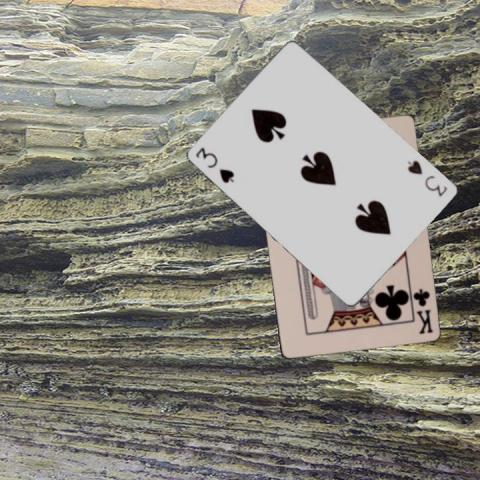3s: (405, 157, 449, 198), (192, 144, 236, 185)
Kc: (409, 286, 434, 336)
